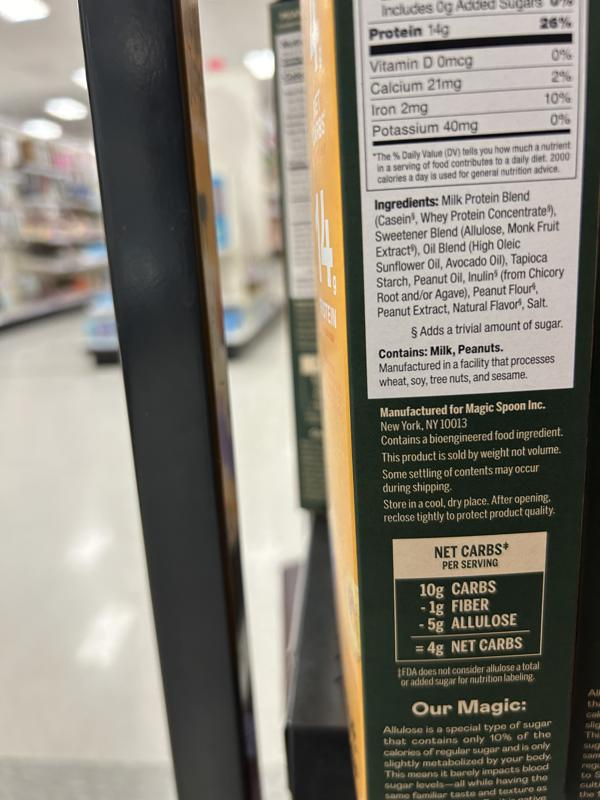ingredients: (370, 188, 567, 318)
